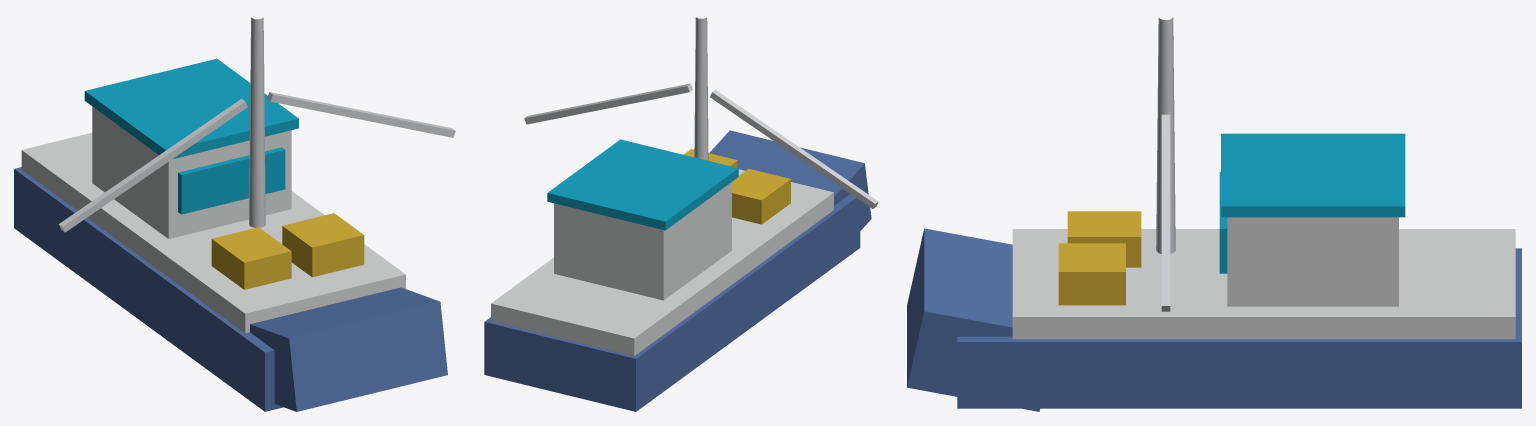
File: shrimp-boat.glb
3 renders of one model, left to right at view 1: azimuth 30°, elevation 25°; view 2: azimuth 150°, elevation 25°; view 3: azimuth 270°, elevation 25°, orthographic. The views are drawn at different scales.
Visible parts, largest first — view 1: Root; view 2: Root; view 3: Root.
Boxes of the visible parts, x1,y1,x2,y2 form: Root: (14,16,455,411); Root: (484,17,878,411); Root: (907,17,1521,411).
Bounding box in the file's own units: 8.32 × 6.35 × 10.02.
